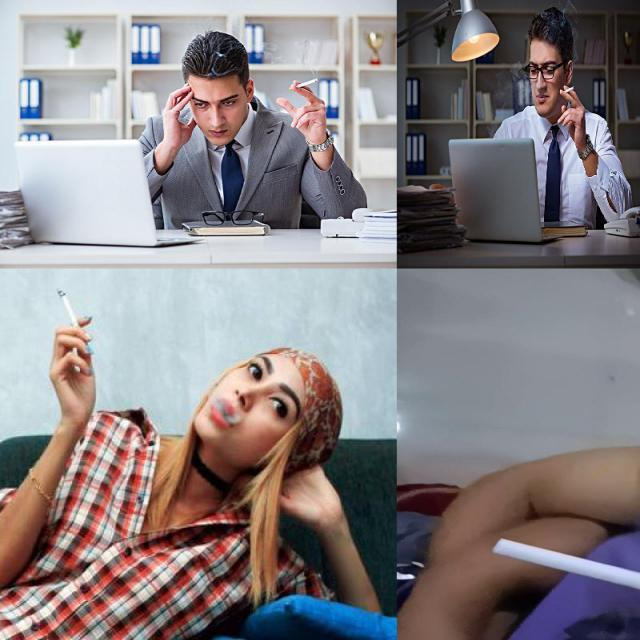cigarette: (491, 536, 639, 608), (56, 288, 85, 338), (288, 77, 320, 91), (562, 85, 575, 94)
